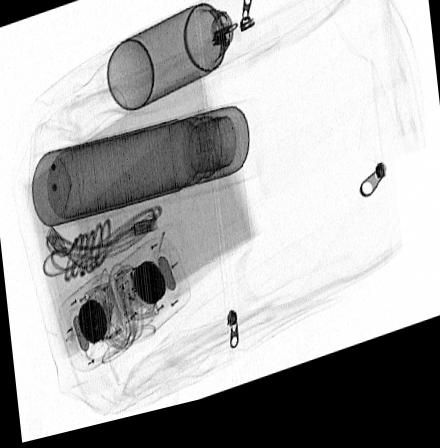Sprayer: (106, 0, 254, 116)
